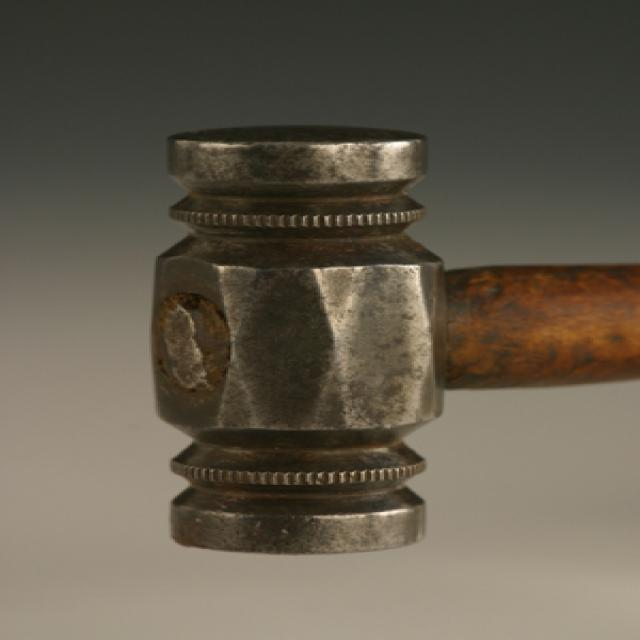hammer: (144, 117, 632, 558)
